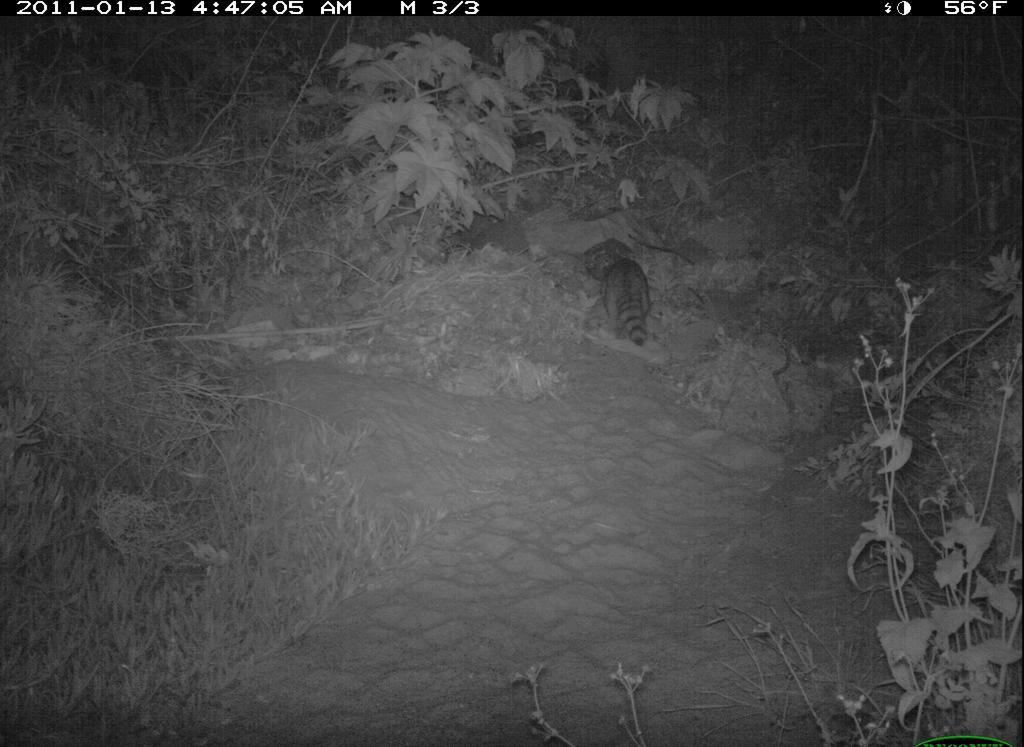raccoon: (597, 251, 658, 358)
